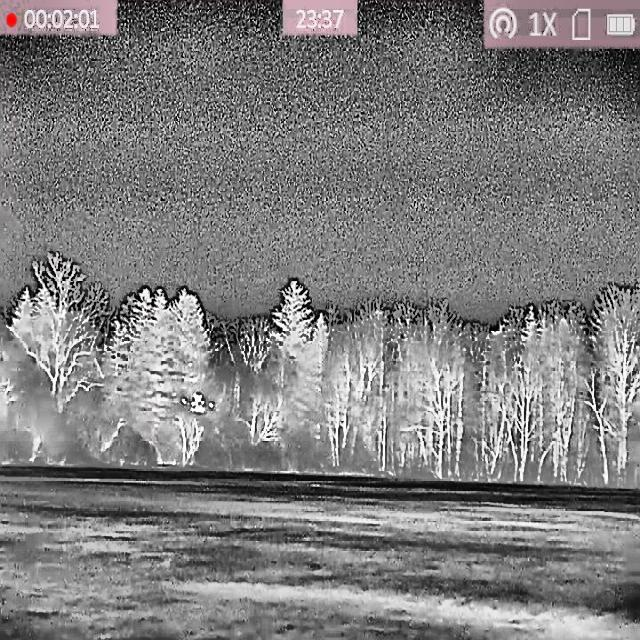drone: (180, 392, 216, 414)
